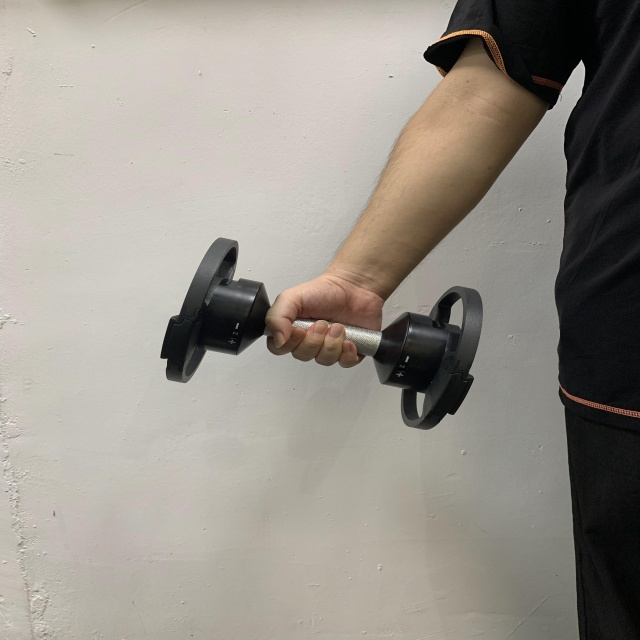01-2kg: (157, 235, 485, 431)
